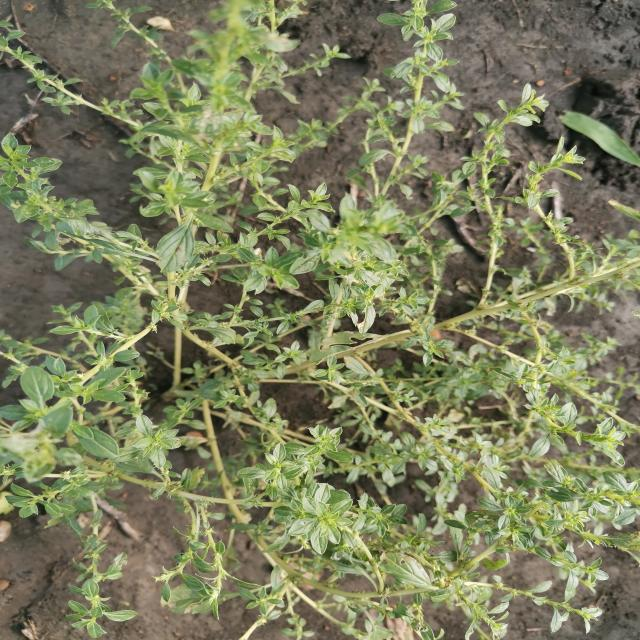Waterhemp: (3, 5, 637, 637)
